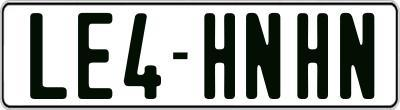4: (123, 12, 160, 98)
E: (76, 10, 111, 97)
H: (202, 11, 239, 97), (295, 11, 327, 100)
L: (28, 13, 67, 99)
N: (244, 13, 280, 103), (340, 12, 374, 101)
